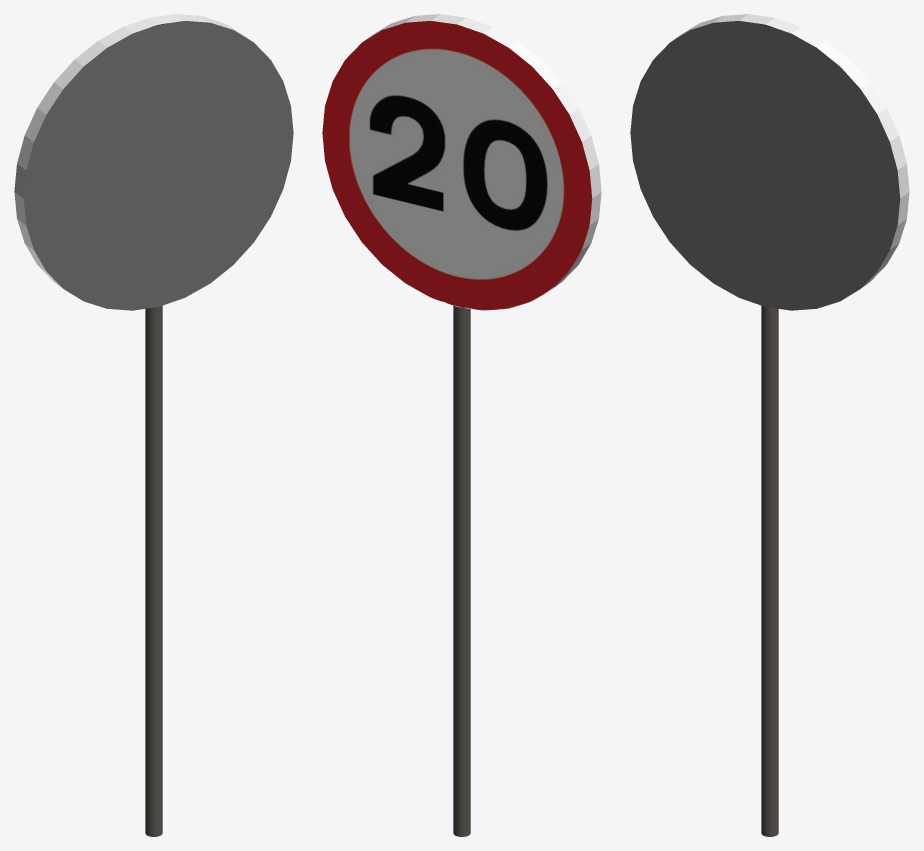
The model's file is Sinal20.fbx.
3 renders of one model, left to right at view 1: azimuth 30°, elevation 25°; view 2: azimuth 150°, elevation 25°; view 3: azimuth 330°, elevation 25°, orthographic.
Visible parts, largest first — view 1: Cylinder.001, Cylinder; view 2: Cylinder.001, Cylinder; view 3: Cylinder.001, Cylinder.
Boxes of the visible parts, left/top/right/bottom form: Cylinder.001: left=14, top=14, right=293, bottom=310; Cylinder: left=145, top=305, right=162, bottom=836; Cylinder.001: left=322, top=14, right=601, bottom=310; Cylinder: left=453, top=305, right=470, bottom=836; Cylinder.001: left=630, top=14, right=909, bottom=310; Cylinder: left=761, top=305, right=778, bottom=836.
Size of the model in its own units: 200 by 575 by 12.
2 materials, 1 textured.
